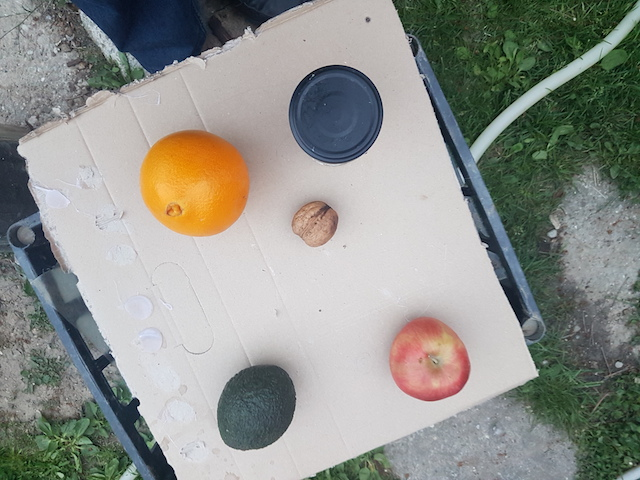apple: (383, 317, 471, 402)
avocado: (209, 366, 299, 456)
nut: (294, 199, 341, 250)
orange: (141, 132, 258, 238)
recipient: (285, 64, 386, 165)
